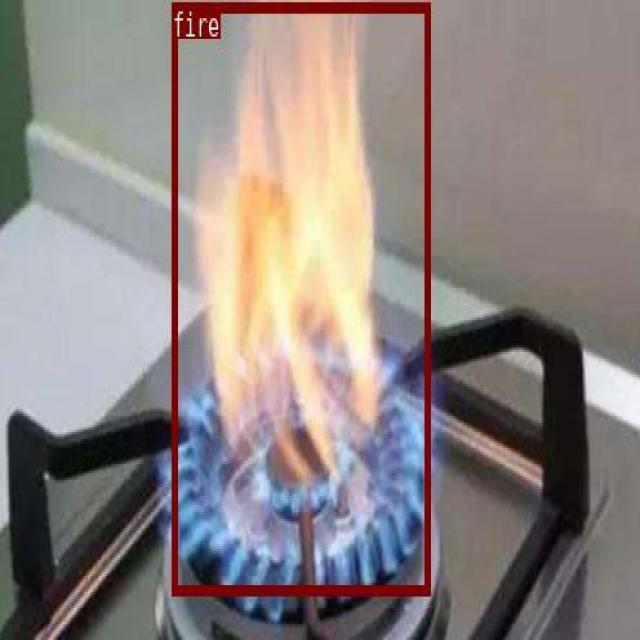fire: (172, 0, 429, 592)
